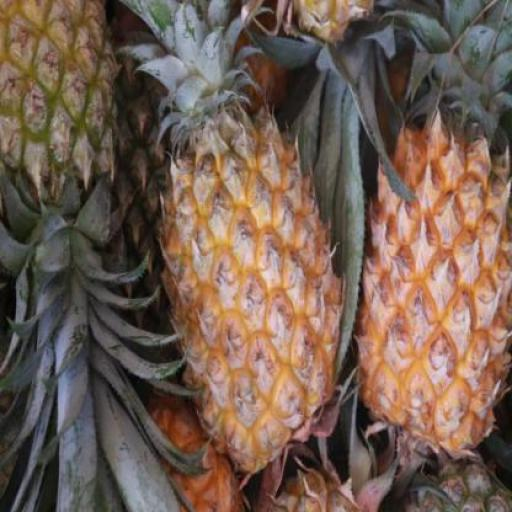------------------------------: (0, 0, 122, 204)
Pineapple - v8 v1: (152, 111, 345, 472), (352, 113, 512, 457)
